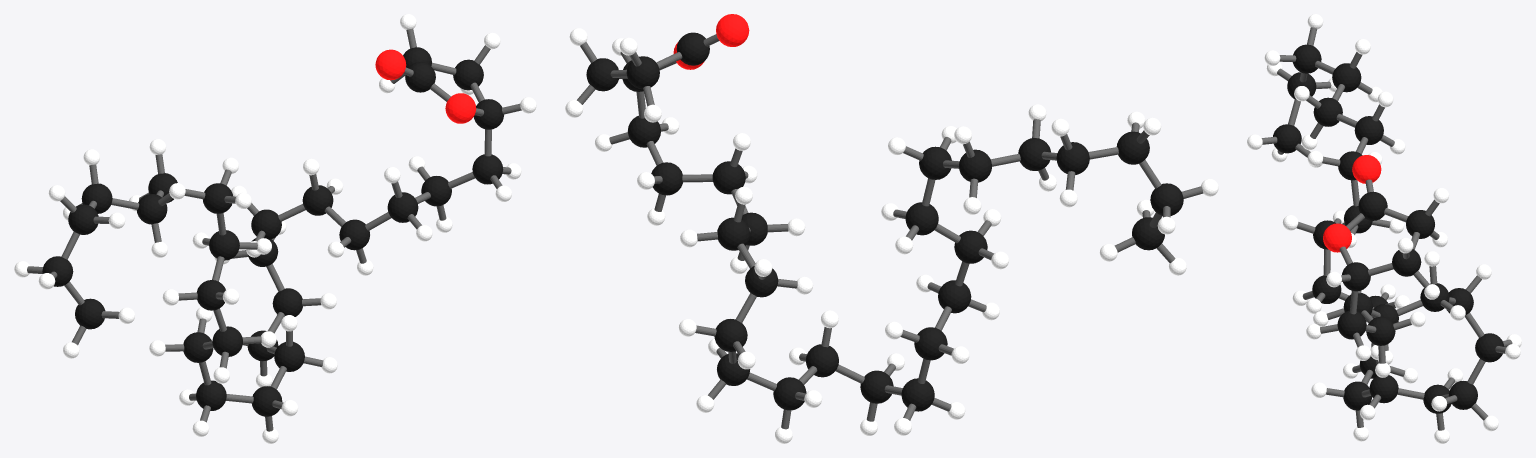
Rendered from molecule.glb.
3 renders of one model, left to right at view 1: azimuth 30°, elevation 25°; view 2: azimuth 150°, elevation 25°; view 3: azimuth 270°, elevation 25°, orthographic. The views are drawn at different scales.
Visible parts, largest first — view 1: geometry_28, geometry_27, geometry_26, geometry_0, geometry_2, geometry_7, geometry_11, geometry_18, geometry_24, geometry_22, geometry_13, geometry_4 (+13 smaller); view 2: geometry_27, geometry_26, geometry_18, geometry_12, geometry_24, geometry_20, geometry_9, geometry_3, geometry_13, geometry_7, geometry_11, geometry_2 (+14 smaller); view 3: geometry_26, geometry_28, geometry_27, geometry_0, geometry_2, geometry_4, geometry_16, geometry_22, geometry_15, geometry_21, geometry_25, geometry_3 (+15 smaller).
Boxes of the visible parts, x1,y1,x2,y2 form: geometry_28: (445,93,476,123); geometry_27: (375,49,406,80); geometry_26: (405,62,435,92); geometry_0: (75,298,105,329); geometry_2: (68,204,98,234); geometry_7: (209,230,239,260); geometry_11: (196,380,226,410); geometry_18: (302,185,333,215); geometry_24: (453,59,483,90); geometry_22: (472,154,503,184); geometry_13: (274,341,304,371); geometry_4: (137,194,167,224); geometry_27: (716,14,749,46); geometry_26: (676,32,709,65); geometry_18: (717,217,750,250); geometry_12: (860,370,893,403); geometry_24: (586,58,619,91); geometry_20: (712,161,745,194); geometry_9: (938,280,971,313); geometry_3: (1056,142,1089,174); geometry_13: (805,344,838,377); geometry_7: (905,202,938,235); geometry_11: (901,378,934,411); geometry_2: (1116,131,1149,164); geometry_26: (1358,192,1387,220); geometry_28: (1323,223,1351,252); geometry_27: (1352,155,1381,183); geometry_0: (1273,124,1301,153); geometry_2: (1292,44,1321,73); geometry_4: (1313,97,1342,126); geometry_16: (1475,333,1504,362); geometry_22: (1337,310,1366,339); geometry_15: (1448,381,1477,409); geometry_21: (1366,317,1395,345); geometry_25: (1406,210,1434,238); geometry_3: (1332,63,1361,92).
Size of the model in its own units: 0.257 by 0.1673 by 0.122.
